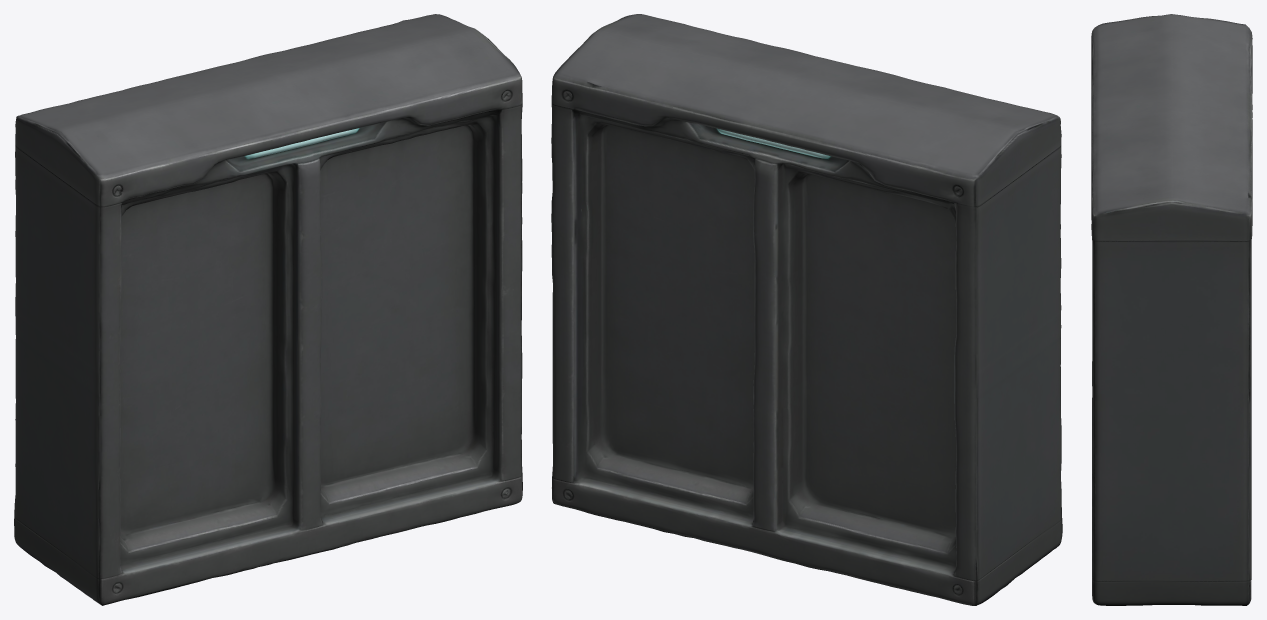
Rendered from industrial_wall_panel_3d_model.fbx.
The picture shows the model from 3 angles, left to right: view 1: azimuth 30°, elevation 25°; view 2: azimuth 150°, elevation 25°; view 3: azimuth 270°, elevation 25°; orthographic projection. The views are drawn at different scales.
Visible parts, largest first — view 1: tripo_node_7eaa3058; view 2: tripo_node_7eaa3058; view 3: tripo_node_7eaa3058.
Boxes of the visible parts, bbox=[...] form: tripo_node_7eaa3058: bbox=[14, 14, 522, 605]; tripo_node_7eaa3058: bbox=[551, 14, 1062, 605]; tripo_node_7eaa3058: bbox=[1091, 14, 1252, 605].
Size of the model in its own units: 97.88 by 97.46 by 35.17.
Materials: 1 (1 with a texture image).
